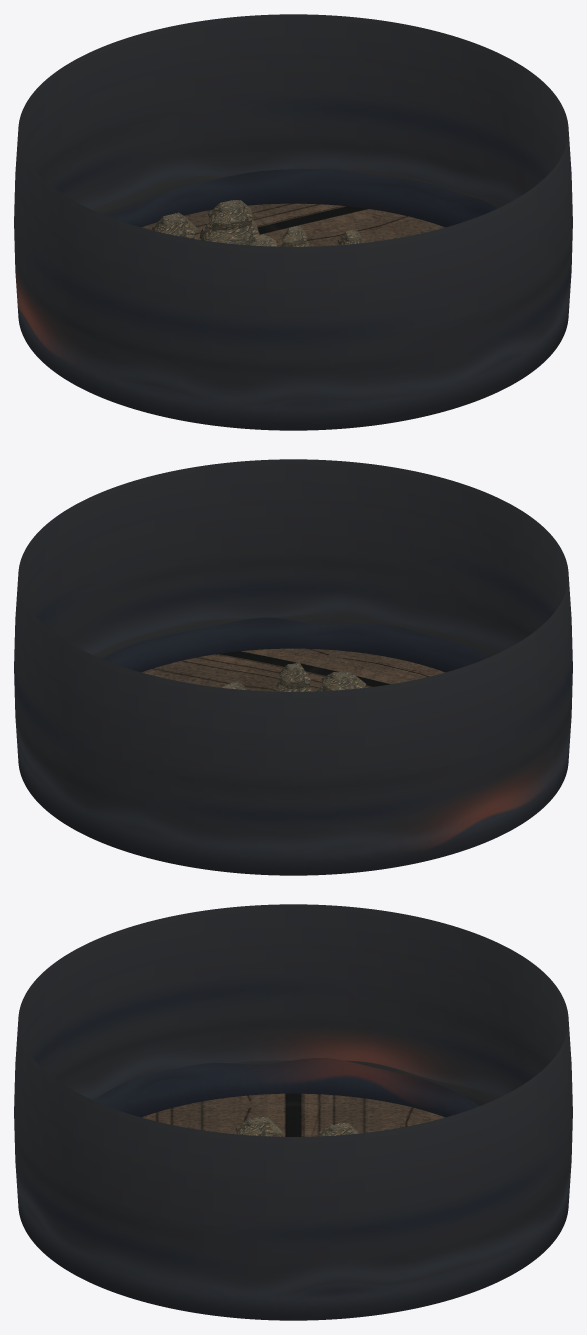
Rendered from canyon-works-panorama.glb.
3 views of the same model, one above another, from view 1: azimuth 30°, elevation 25°; view 2: azimuth 150°, elevation 25°; view 3: azimuth 270°, elevation 25° (orthographic).
Visible parts, largest first — view 1: CanyonWorksPanorama, CanyonApronEarth, CanyonRimStrata; view 2: CanyonWorksPanorama, CanyonApronEarth, CanyonRimStrata; view 3: CanyonWorksPanorama, CanyonApronEarth, CanyonRimStrata.
Part boxes in pixels (left/top/right/bottom): CanyonWorksPanorama: left=14, top=14, right=572, bottom=430; CanyonApronEarth: left=141, top=203, right=445, bottom=246; CanyonRimStrata: left=152, top=200, right=364, bottom=246; CanyonWorksPanorama: left=14, top=459, right=572, bottom=875; CanyonApronEarth: left=141, top=648, right=445, bottom=691; CanyonRimStrata: left=222, top=662, right=366, bottom=691; CanyonWorksPanorama: left=14, top=904, right=572, bottom=1320; CanyonApronEarth: left=141, top=1093, right=445, bottom=1136; CanyonRimStrata: left=235, top=1117, right=358, bottom=1136.
Bounding box in the file's own units: 386 × 140 × 386.
3 materials, 3 textured.
